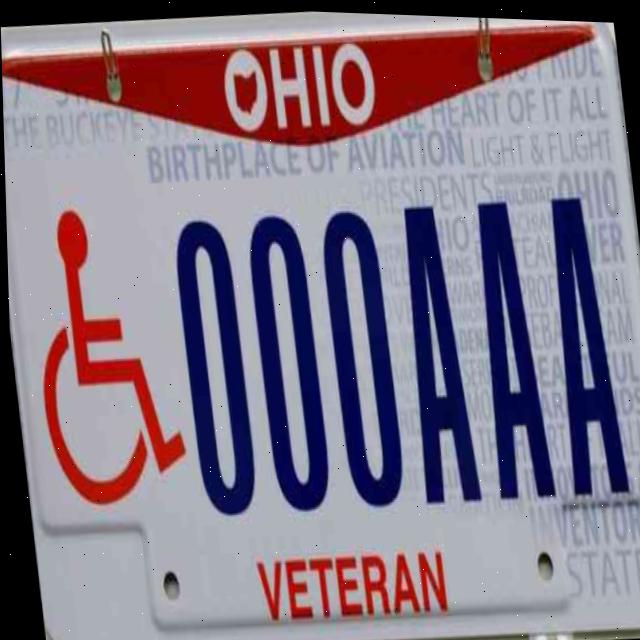symbol_of_access: (10, 186, 200, 531)
